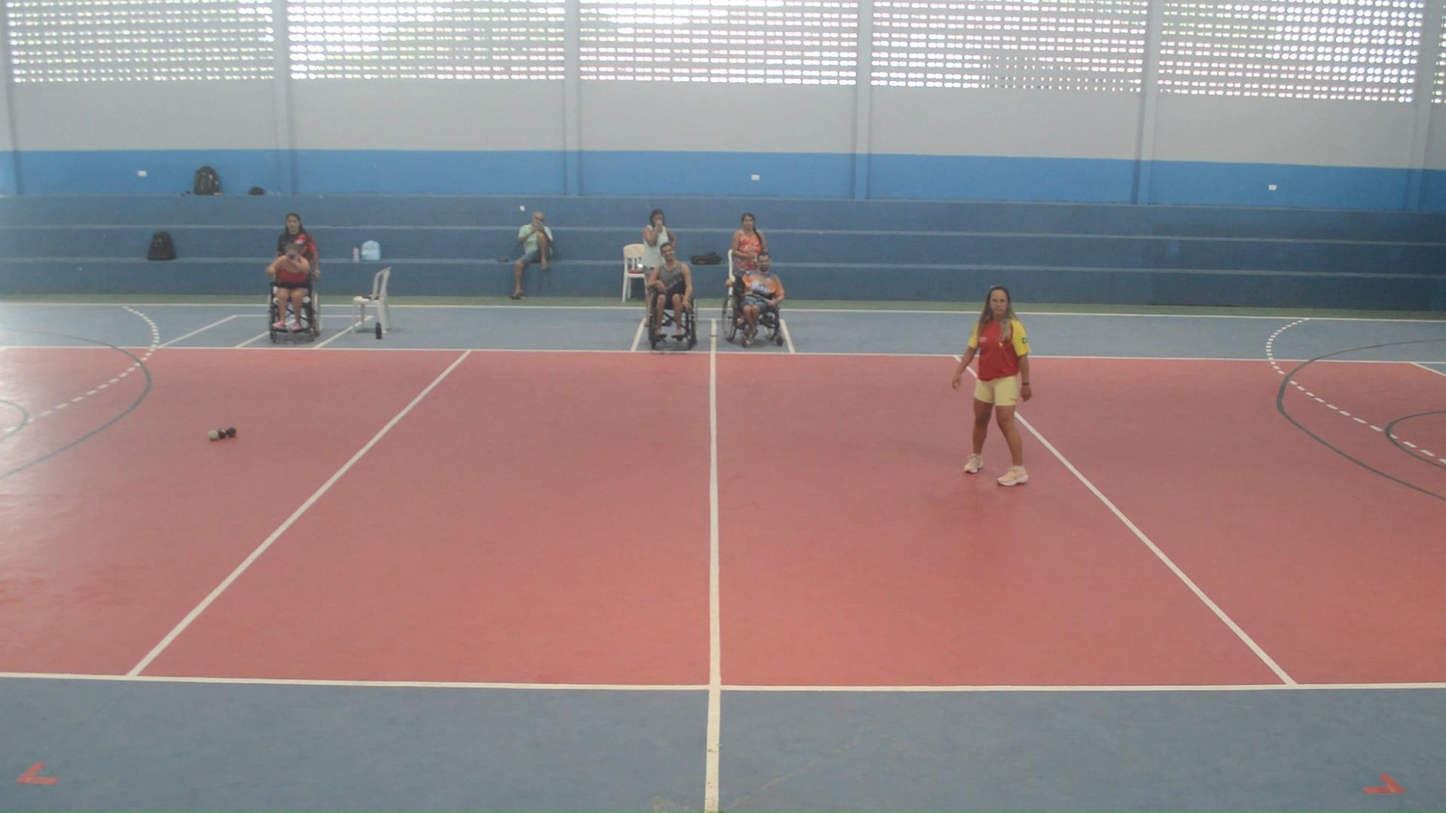blue_ball: (226, 427, 237, 438)
red_ball: (217, 428, 227, 440)
white_ball: (207, 429, 219, 441)
